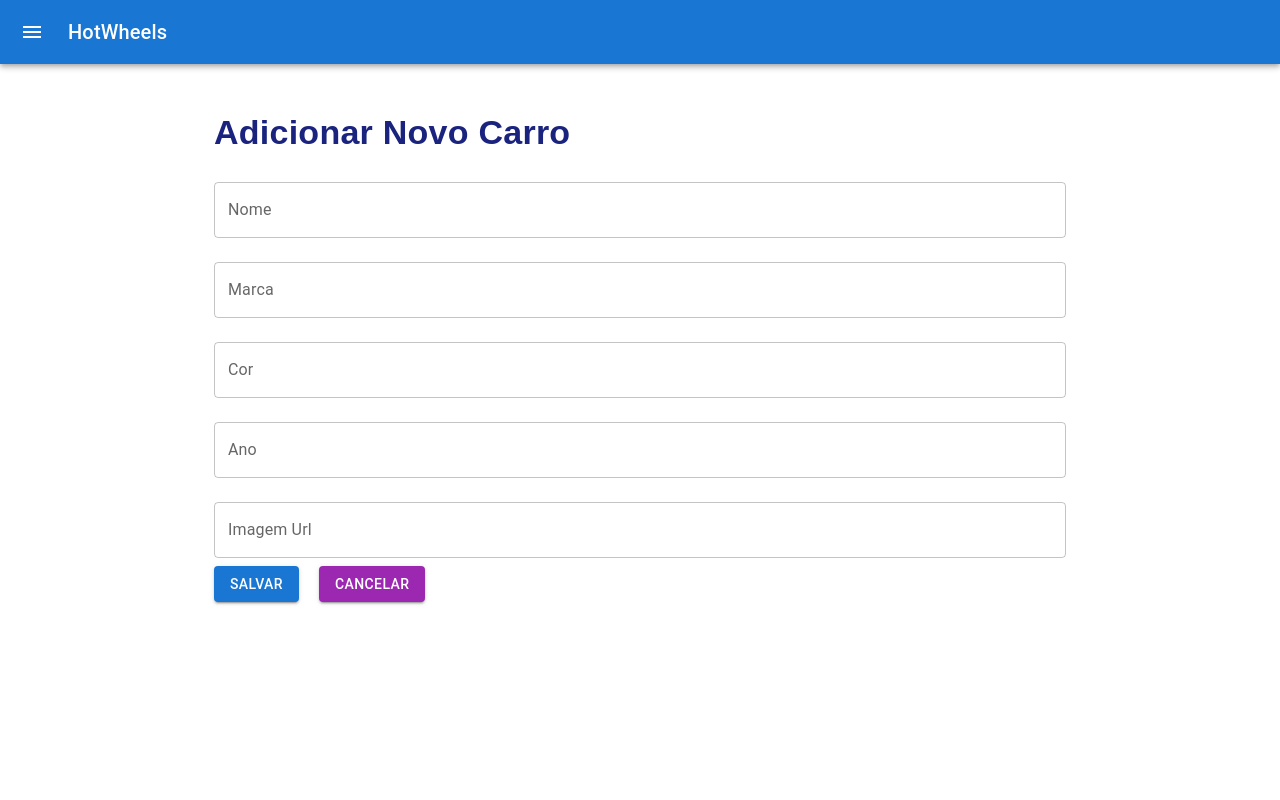
Test: Deve exibir mensagens de erro para campos obrigatórios
Click the submit button.
click(257, 585)  # box top-left (214, 566), bottom-right (299, 603)
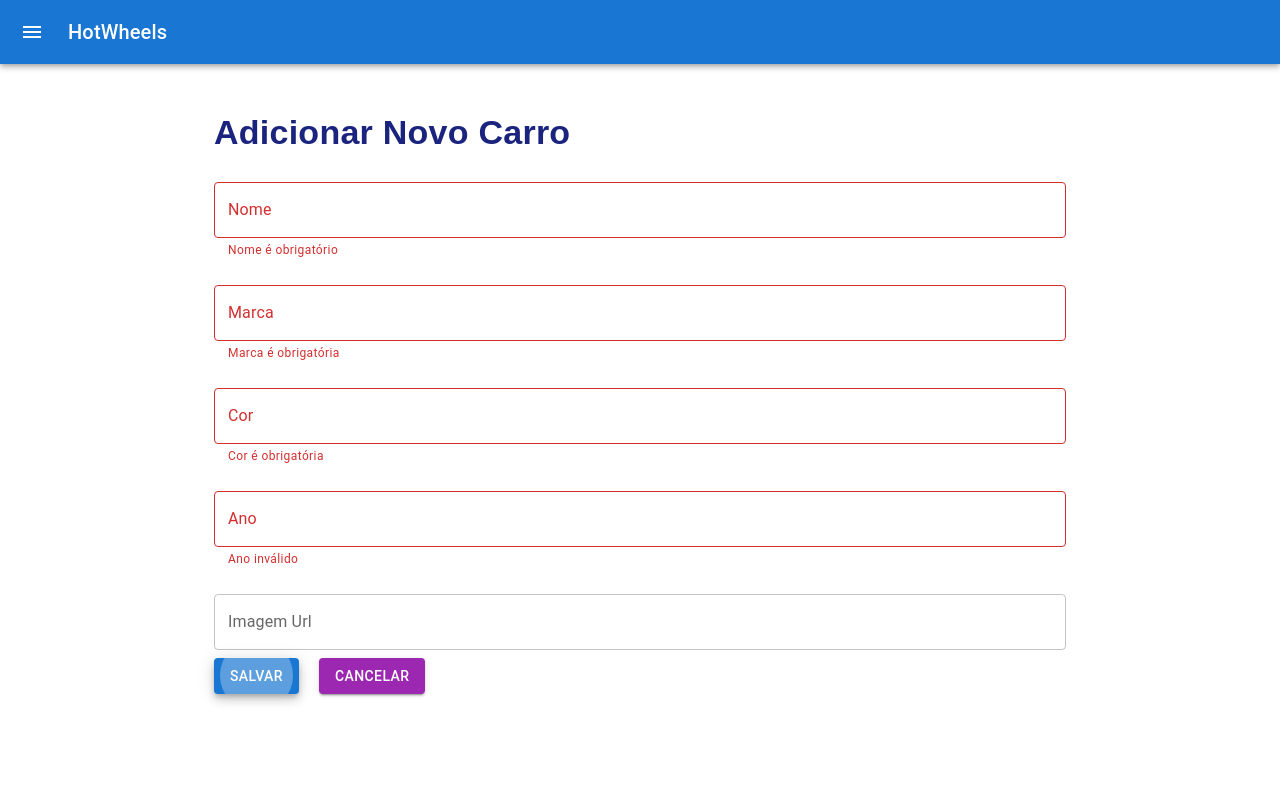
Expected: the text "Nome é obrigatório" is shown, top-left (228, 243), bottom-right (338, 257)
